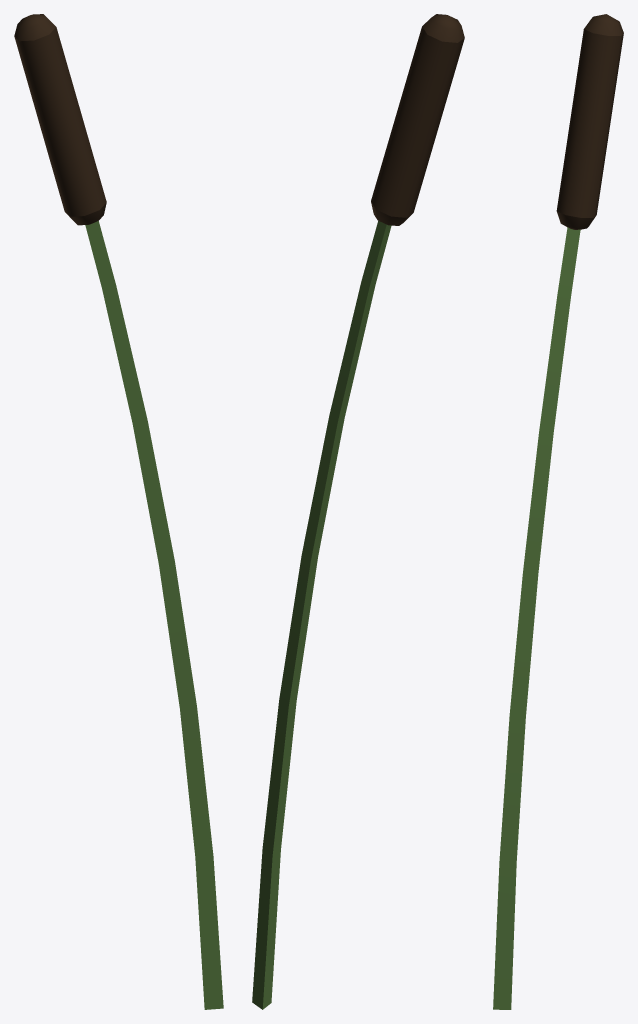
The model's file is plant_cattail_solo_D_twig.fbx.
The picture shows the model from 3 angles, left to right: view 1: azimuth 30°, elevation 25°; view 2: azimuth 210°, elevation 25°; view 3: azimuth 270°, elevation 25°; orthographic projection. The views are drawn at different scales.
Parts seen in each view (by area): view 1: plant_cattail_solo_D_twig, plant_cattail_solo_D_leaf; view 2: plant_cattail_solo_D_twig, plant_cattail_solo_D_leaf; view 3: plant_cattail_solo_D_twig, plant_cattail_solo_D_leaf.
Boxes of the visible parts, box(x1,y1,x2,y2) form: plant_cattail_solo_D_twig: box(85, 221, 223, 1009); plant_cattail_solo_D_leaf: box(14, 14, 106, 225); plant_cattail_solo_D_twig: box(252, 221, 391, 1009); plant_cattail_solo_D_leaf: box(371, 14, 464, 225); plant_cattail_solo_D_twig: box(493, 227, 580, 1009); plant_cattail_solo_D_leaf: box(556, 14, 623, 229).
Size of the model in its own units: 21.99 by 139 by 17.69.
